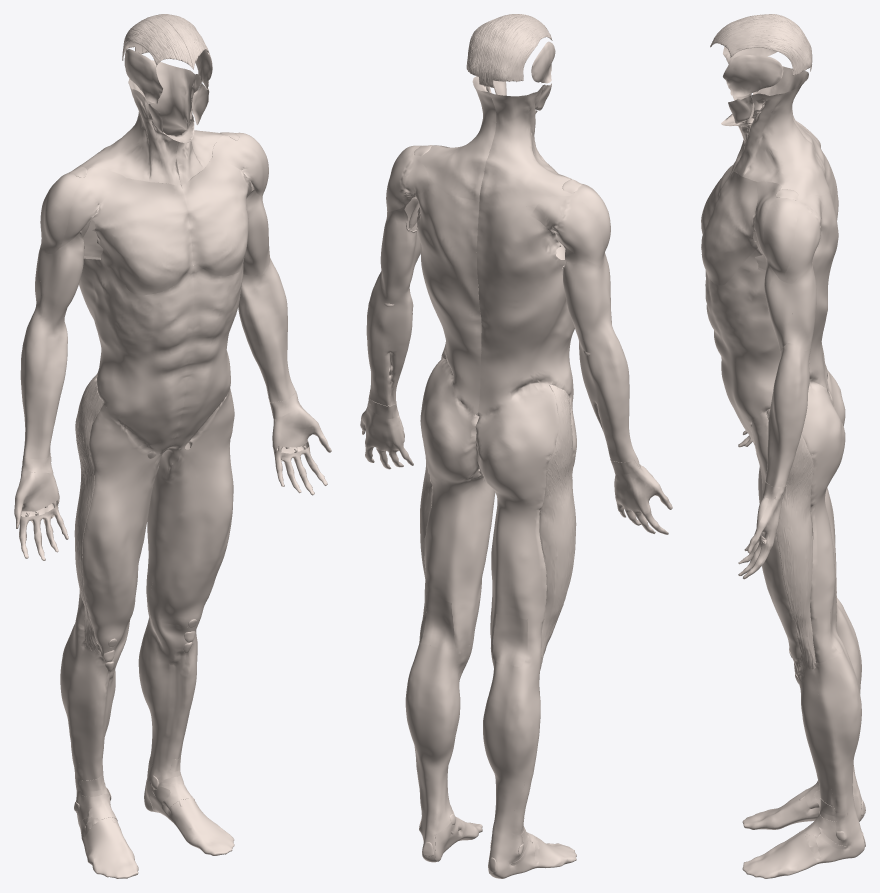
File: fascias.glb
3 views of the same model, side by side, from view 1: azimuth 30°, elevation 25°; view 2: azimuth 150°, elevation 25°; view 3: azimuth 270°, elevation 25° (orthographic).
Visible parts, largest first — view 1: Investing abdominal fascia.r, Fascia lata.l, Fascia lata.r, Crural fascia.l, Crural fascia.r, Pectoral fascia.r, Investing abdominal fascia.l, Pectoral fascia.l, Antebrachial fascia.r, Antebrachial fascia.l, Superficial investing cervical fascia.r, Superficial investing cervical fascia.l (+10 smaller); view 2: Investing abdominal fascia.r, Fascia lata.r, Fascia lata.l, Crural fascia.r, Investing abdominal fascia.l, Crural fascia.l, Superficial investing cervical fascia.r, Iliotibial tract.r, Antebrachial fascia.r, Antebrachial fascia.l, Deltoid fascia.r, Superficial investing cervical fascia.l (+11 smaller); view 3: Investing abdominal fascia.l, Crural fascia.l, Fascia lata.l, Superficial investing cervical fascia.l, Iliotibial tract.l, Deltoid fascia.l, Pectoral fascia.l, Antebrachial fascia.l, Brachial fascia.l, Epicranial aponeurosis.l, Crural fascia.r, Superficial layer of temporal fascia.l (+11 smaller).
Part boxes in pixels (x1,y1,x2,y2): Investing abdominal fascia.r: (79, 238, 194, 452); Fascia lata.l: (146, 388, 234, 627); Fascia lata.r: (74, 378, 167, 648); Crural fascia.l: (138, 609, 234, 855); Crural fascia.r: (60, 624, 138, 878); Pectoral fascia.r: (90, 178, 193, 295); Investing abdominal fascia.l: (158, 159, 243, 447); Pectoral fascia.l: (181, 157, 250, 275); Antebrachial fascia.r: (20, 310, 67, 459); Antebrachial fascia.l: (238, 258, 295, 402); Superficial investing cervical fascia.r: (68, 79, 186, 184); Superficial investing cervical fascia.l: (149, 60, 227, 183); Investing abdominal fascia.r: (476, 199, 574, 418); Fascia lata.r: (475, 383, 576, 668); Fascia lata.l: (419, 359, 495, 648); Crural fascia.r: (483, 657, 576, 878); Investing abdominal fascia.l: (412, 171, 481, 416); Crural fascia.l: (405, 641, 482, 862); Superficial investing cervical fascia.r: (479, 84, 574, 208); Iliotibial tract.r: (539, 385, 575, 669); Antebrachial fascia.r: (578, 324, 637, 462); Antebrachial fascia.l: (366, 272, 413, 406); Deltoid fascia.r: (530, 170, 610, 268); Superficial investing cervical fascia.l: (413, 76, 496, 200); Investing abdominal fascia.l: (705, 188, 838, 443); Crural fascia.l: (742, 644, 864, 878); Fascia lata.l: (751, 381, 845, 662); Superficial investing cervical fascia.l: (721, 75, 829, 201); Iliotibial tract.l: (766, 408, 815, 672); Deltoid fascia.l: (754, 181, 824, 283); Pectoral fascia.l: (701, 171, 757, 285); Antebrachial fascia.l: (765, 343, 810, 486); Brachial fascia.l: (764, 259, 816, 351); Epicranial aponeurosis.l: (710, 18, 812, 75); Crural fascia.r: (742, 605, 864, 829); Superficial layer of temporal fascia.l: (723, 55, 783, 96).
Bounding box in the file's own units: 0.6674 × 1.7 × 0.3055.
